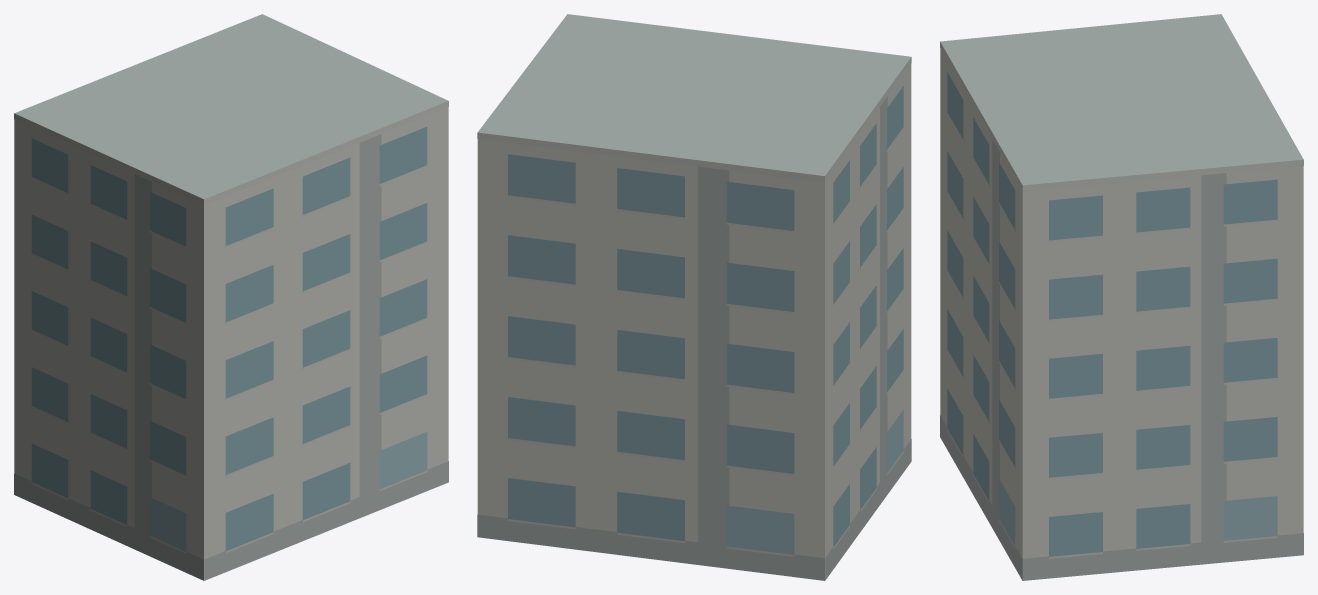
The model's file is survey-upis-32808290.glb.
3 renders of one model, left to right at view 1: azimuth 30°, elevation 25°; view 2: azimuth 150°, elevation 25°; view 3: azimuth 270°, elevation 25°, orthographic. The views are drawn at different scales.
Parts seen in each view (by area): view 1: survey-upis-32808290.tmp; view 2: survey-upis-32808290.tmp; view 3: survey-upis-32808290.tmp.
Part boxes in pixels (x1,y1,x2,y2): survey-upis-32808290.tmp: [14, 14, 448, 580]; survey-upis-32808290.tmp: [477, 14, 911, 580]; survey-upis-32808290.tmp: [940, 14, 1303, 580].
Size of the model in its own units: 14.36 by 15.45 by 12.89.
